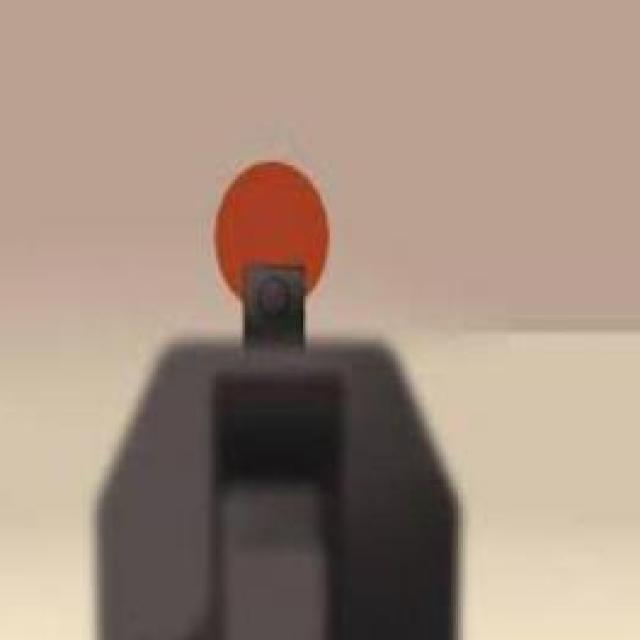pistol: (97, 131, 456, 640)
